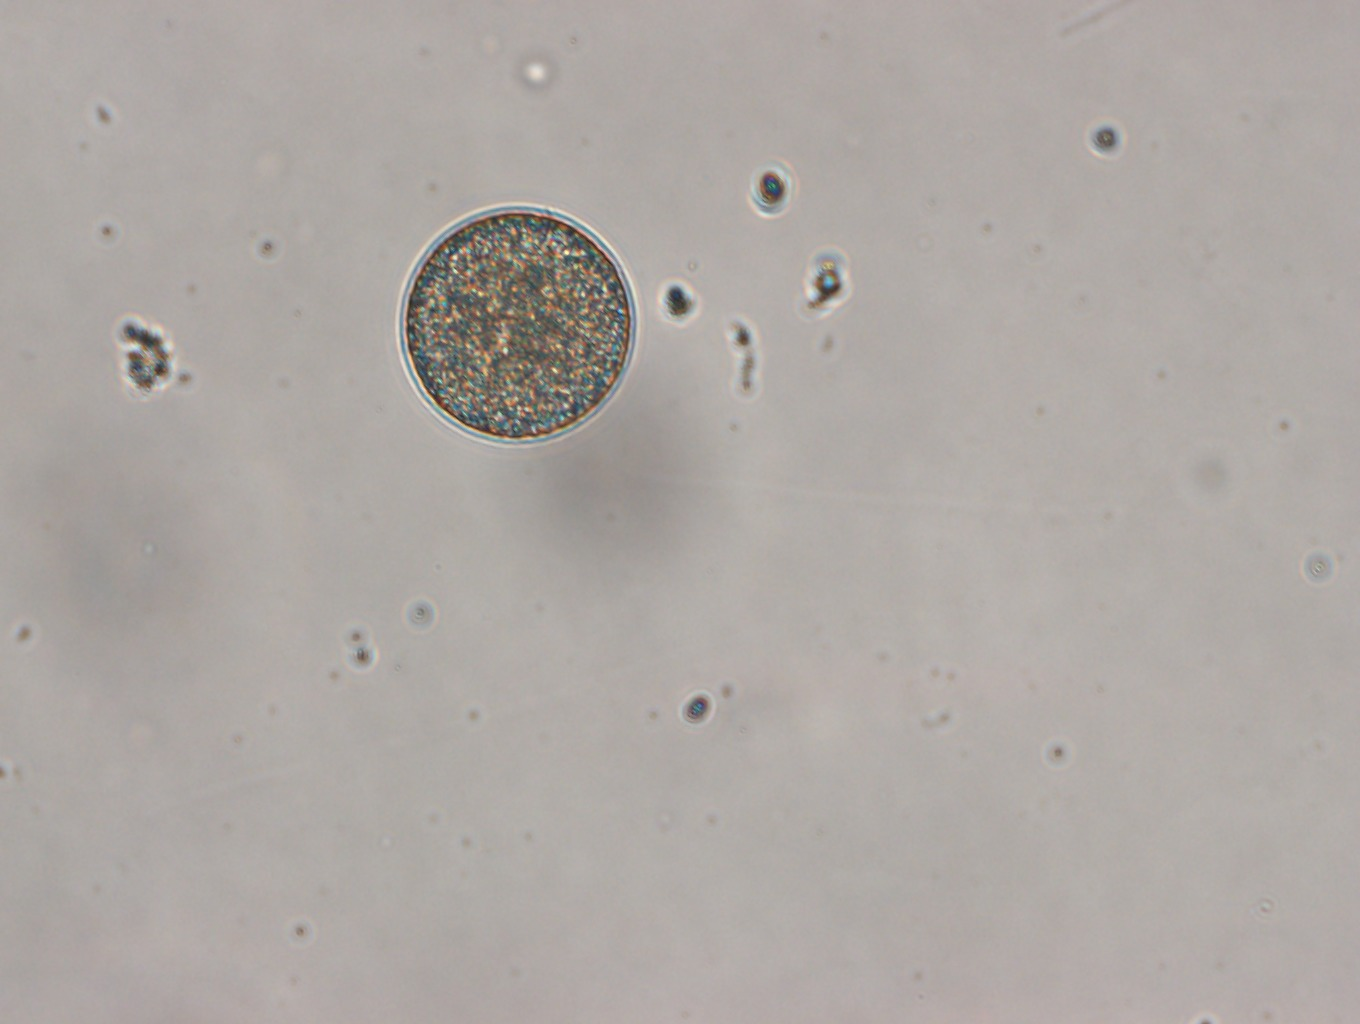coscinodiscus: (397, 207, 639, 447)
